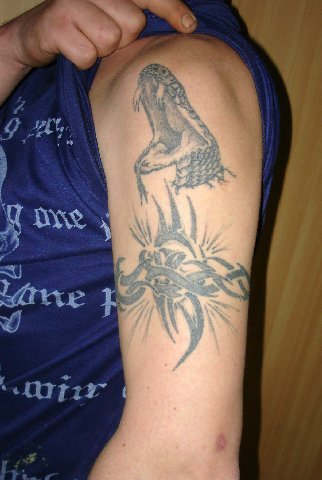tatu7_zmeya: (128, 58, 237, 204)
